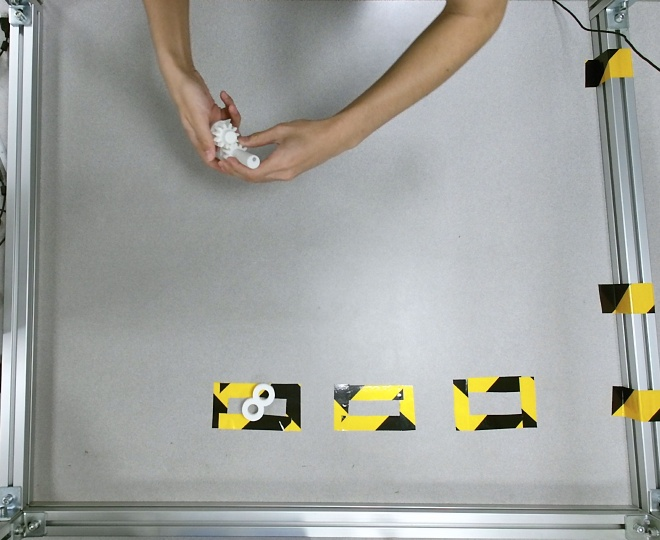stage_3: (210, 119, 260, 169)
